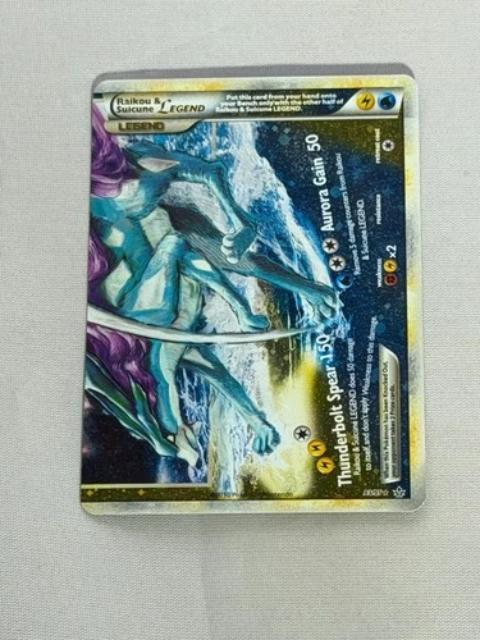Card: (77, 70, 431, 519)
Name: (109, 90, 212, 118)
